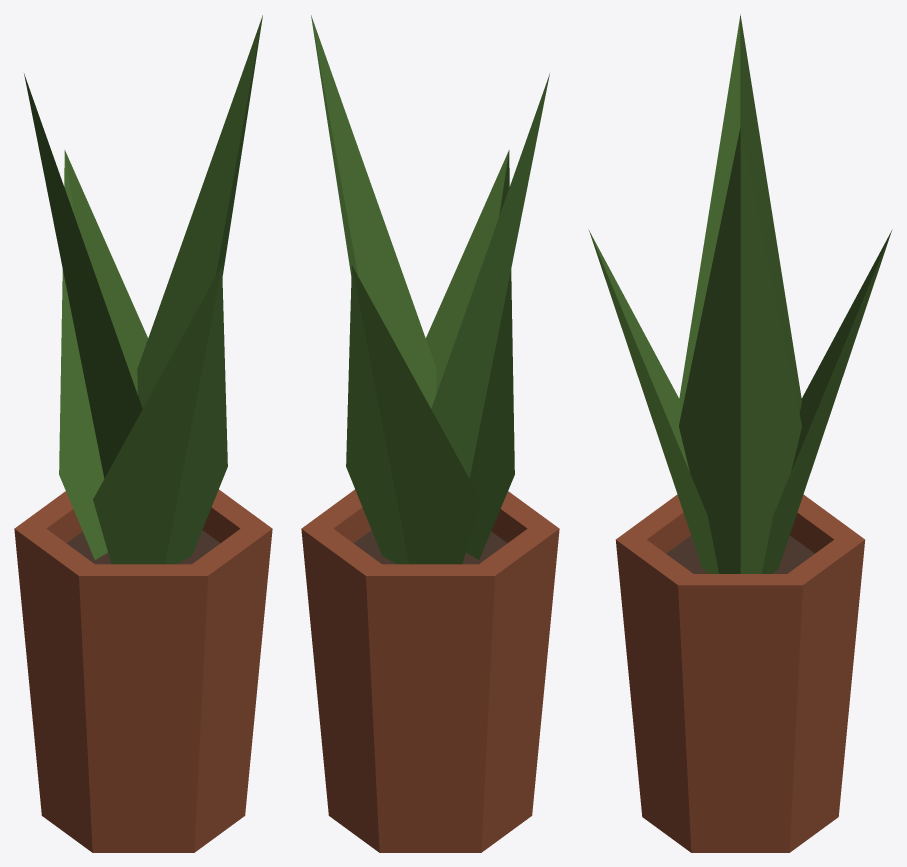
Rendered from plant.high.0d245c51.glb.
3 views of the same model, side by side, from view 1: azimuth 30°, elevation 25°; view 2: azimuth 150°, elevation 25°; view 3: azimuth 270°, elevation 25° (orthographic). The views are drawn at different scales.
Visible parts, largest first — view 1: plant; view 2: plant; view 3: plant.
Boxes of the visible parts, x1,y1,x2,y2 form: plant: (14, 15, 272, 852); plant: (301, 15, 559, 852); plant: (588, 14, 892, 852).
Size of the model in its own units: 0.2918 by 0.9 by 0.3323.
